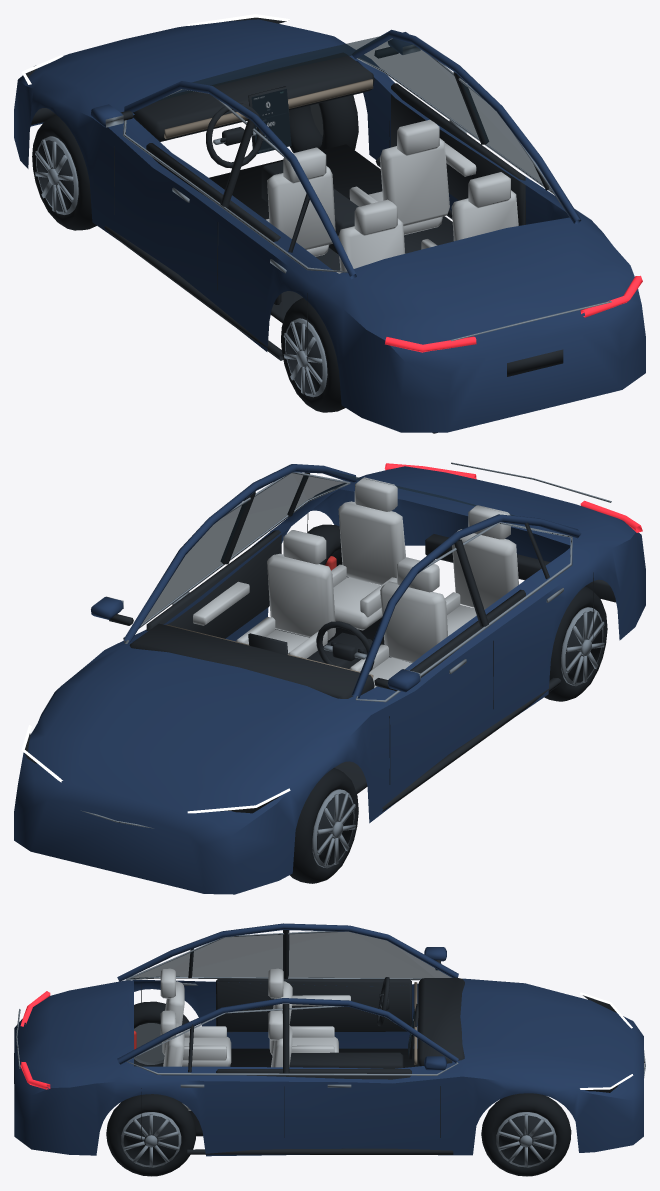
3 renders of one model, top to bottom at view 1: azimuth 30°, elevation 25°; view 2: azimuth 150°, elevation 25°; view 3: azimuth 270°, elevation 25°, orthographic. The views are drawn at different scales.
Visible parts, largest first — view 1: geometry:body, geometry:wheel-front-left, geometry:wheel-rear-left, geometry:wheel-front-right, geometry:display-front, geometry:steering; view 2: geometry:body, geometry:wheel-front-left, geometry:wheel-rear-left, geometry:steering, geometry:wheel-rear-right; view 3: geometry:body, geometry:wheel-front-right, geometry:wheel-rear-right, geometry:wheel-rear-left, geometry:steering.
Part boxes in pixels (bbox=[...]): geometry:body: bbox=[14, 14, 645, 433]; geometry:wheel-front-left: bbox=[32, 115, 96, 230]; geometry:wheel-rear-left: bbox=[281, 298, 345, 412]; geometry:wheel-front-right: bbox=[289, 95, 358, 152]; geometry:display-front: bbox=[251, 89, 291, 154]; geometry:steering: bbox=[206, 103, 263, 168]; geometry:body: bbox=[14, 462, 645, 894]; geometry:wheel-front-left: bbox=[290, 768, 358, 883]; geometry:wheel-rear-left: bbox=[544, 586, 607, 701]; geometry:steering: bbox=[316, 621, 374, 671]; geometry:wheel-rear-right: bbox=[307, 524, 348, 577]; geometry:body: bbox=[14, 923, 645, 1156]; geometry:wheel-front-right: bbox=[481, 1093, 571, 1176]; geometry:wheel-rear-right: bbox=[106, 1094, 196, 1176]; geometry:wheel-rear-left: bbox=[134, 1001, 189, 1066]; geometry:steering: bbox=[377, 977, 389, 1026].
Bounding box in the file's own units: 2.19 × 1.47 × 4.99.
Materials: 12 (1 with a texture image).
